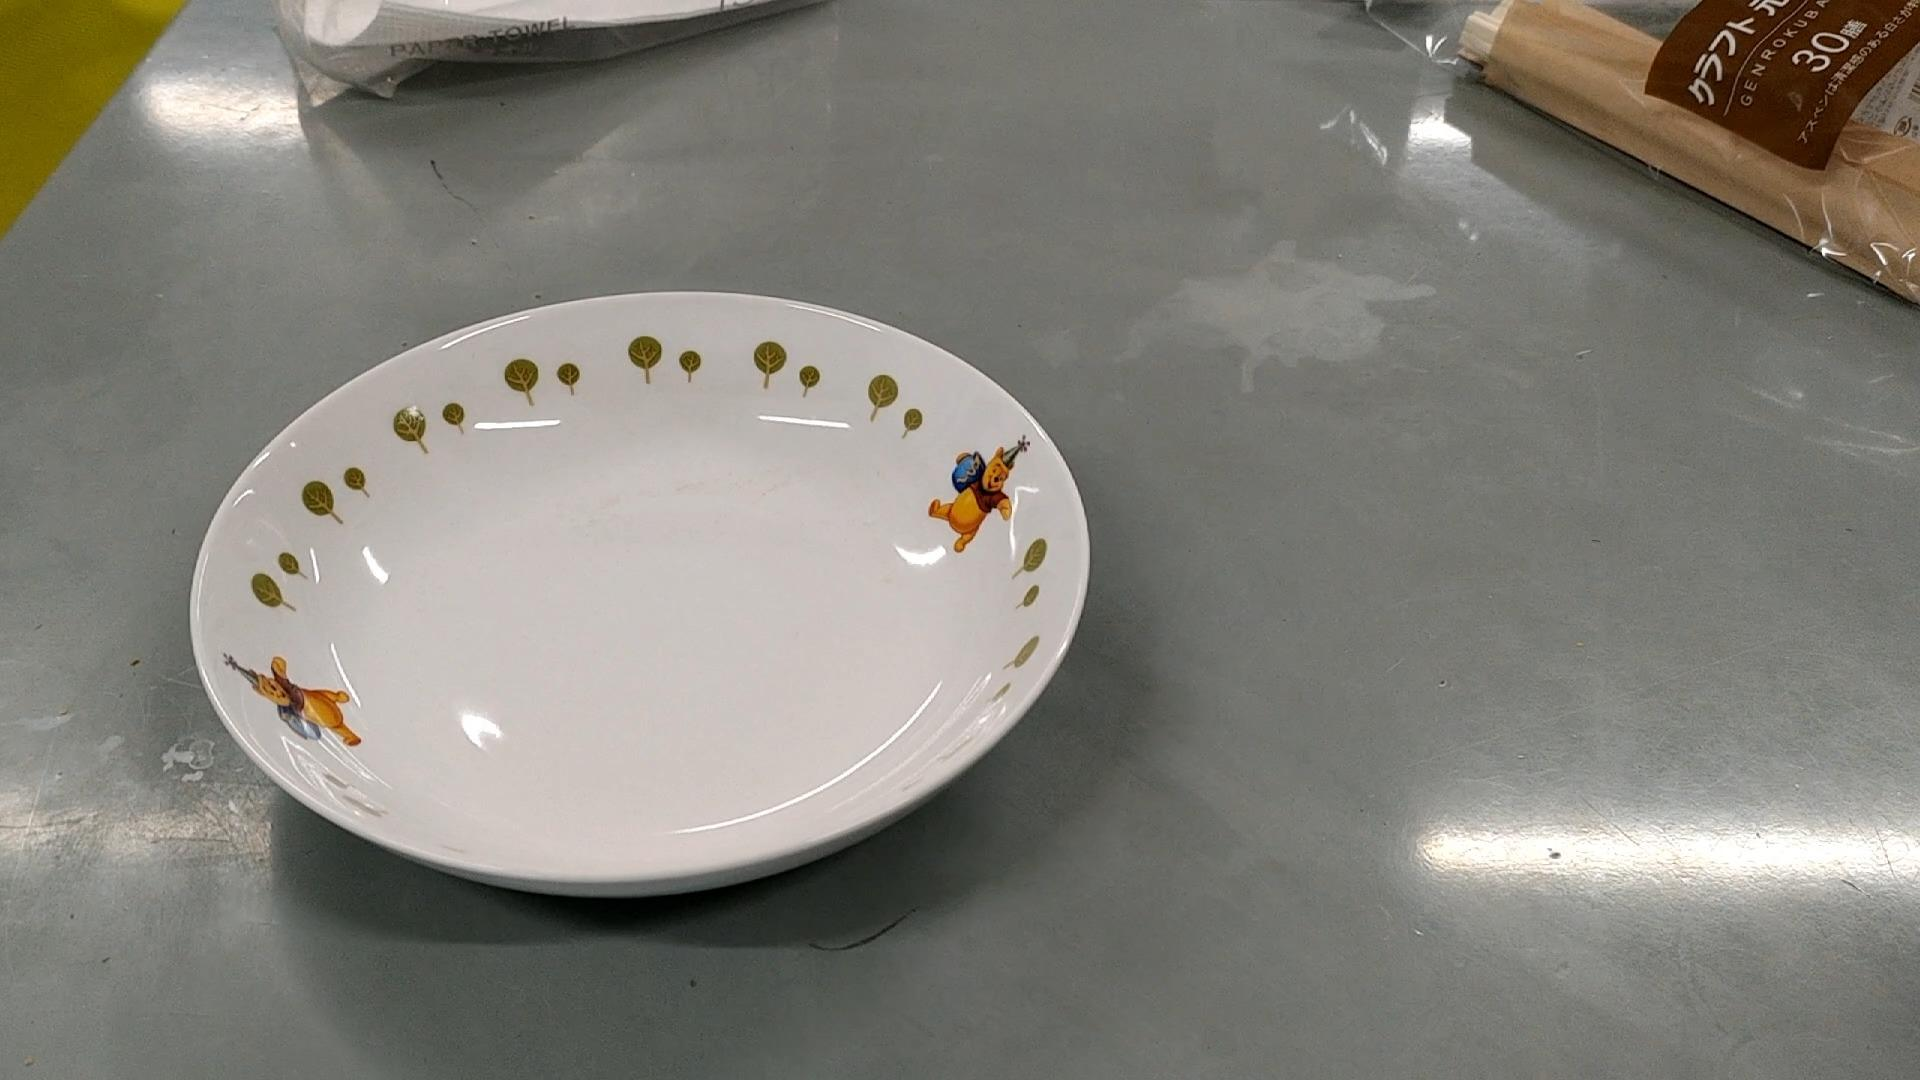plate: (195, 290, 1093, 907)
